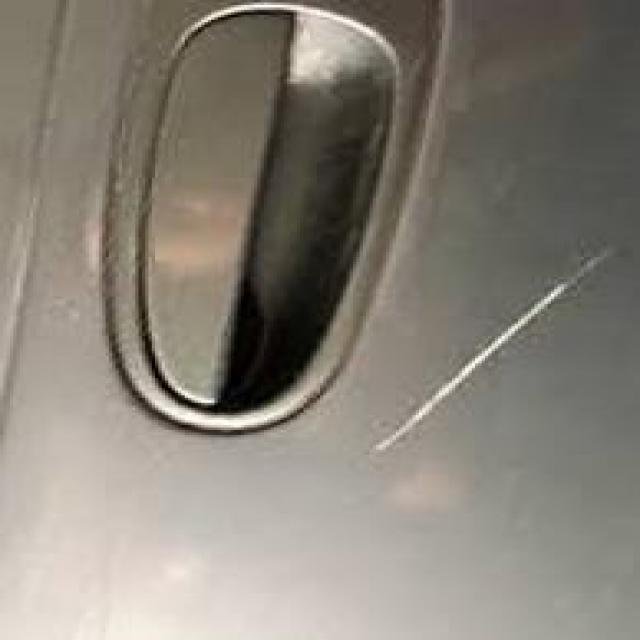scratch: (336, 227, 636, 487)
